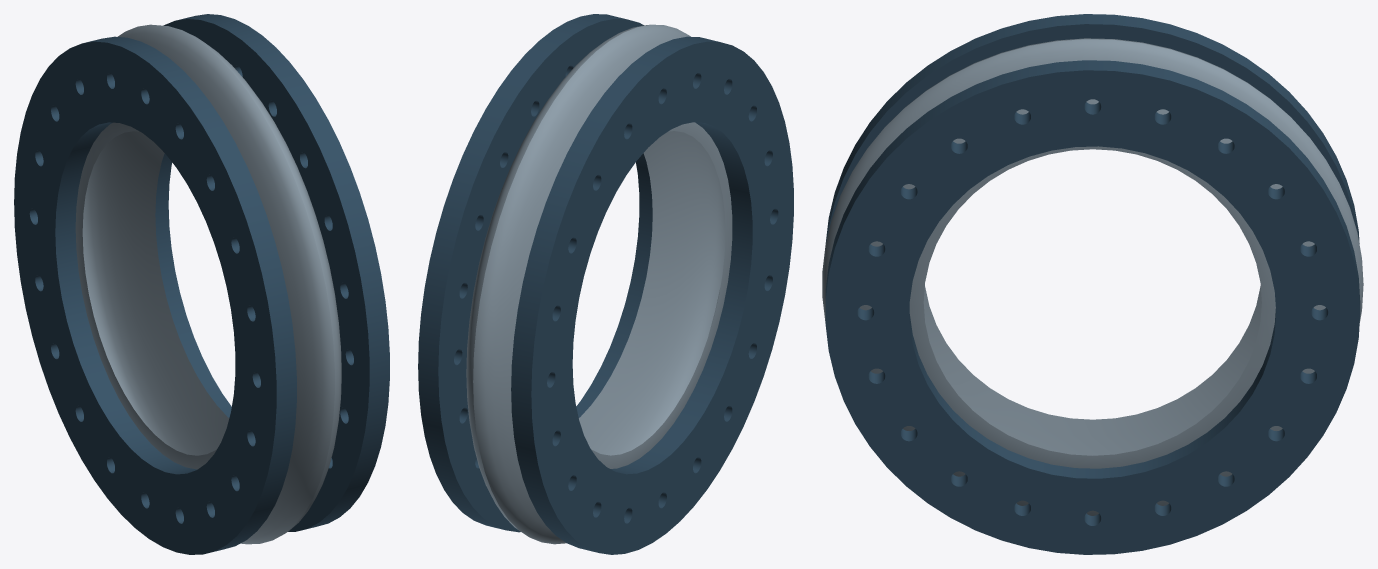
The picture shows the model from 3 angles, left to right: view 1: azimuth 30°, elevation 25°; view 2: azimuth 150°, elevation 25°; view 3: azimuth 270°, elevation 25°; orthographic projection.
Visible parts, largest first — view 1: homut_flanec_1, rebro_vstavka_rezina, homut_flanec_2; view 2: homut_flanec_1, rebro_vstavka_rezina, homut_flanec_2; view 3: homut_flanec_2, rebro_vstavka_rezina, homut_flanec_1.
Part boxes in pixels (x1,y1,x2,y2): homut_flanec_1: [14, 36, 296, 554]; rebro_vstavka_rezina: [75, 24, 341, 544]; homut_flanec_2: [155, 14, 389, 531]; homut_flanec_1: [511, 36, 793, 554]; rebro_vstavka_rezina: [466, 24, 732, 544]; homut_flanec_2: [418, 14, 652, 532]; homut_flanec_2: [825, 60, 1360, 554]; rebro_vstavka_rezina: [822, 38, 1363, 515]; homut_flanec_1: [825, 14, 1359, 243].
Bounding box in the file's own units: 260 × 1056 × 1056.
